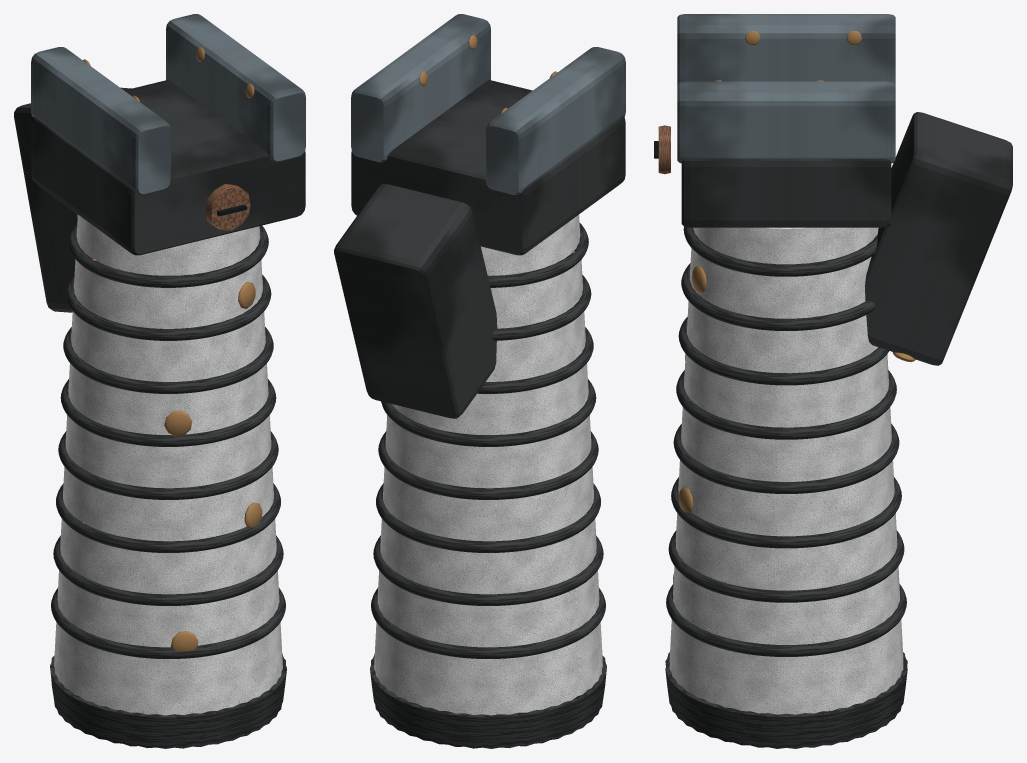
The picture shows the model from 3 angles, left to right: view 1: azimuth 30°, elevation 25°; view 2: azimuth 150°, elevation 25°; view 3: azimuth 270°, elevation 25°; orthographic projection. The views are drawn at different scales.
Visible parts, largest first — view 1: vulcanized grip, machined receiver, brushed steel, peened pin, edge hardware; view 2: machined receiver, vulcanized grip, brushed steel; view 3: vulcanized grip, machined receiver, brushed steel, peened pin, edge hardware.
Part boxes in pixels (x1,y1,x2,y2): vulcanized grip: (54, 215, 282, 715); machined receiver: (14, 80, 305, 748); brushed steel: (31, 14, 305, 195); peened pin: (164, 281, 262, 651); edge hardware: (205, 184, 250, 230); machined receiver: (334, 80, 625, 748); vulcanized grip: (374, 215, 602, 715); brushed steel: (351, 14, 625, 195); vulcanized grip: (669, 227, 903, 714); machined receiver: (665, 112, 1012, 748); brushed steel: (677, 14, 895, 163); peened pin: (673, 265, 706, 583); edge hardware: (658, 125, 670, 174).
Size of the model in its own units: 0.0577 by 0.1697 by 0.0855.
Materials: 6 (4 with a texture image).
